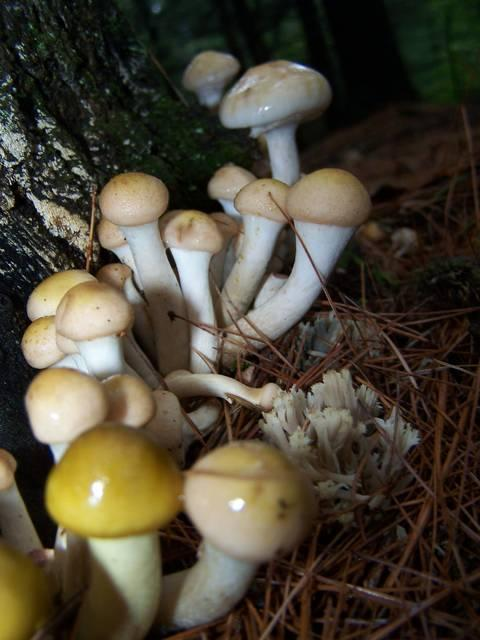Edible Mushroom: (17, 49, 373, 637), (159, 438, 316, 630), (44, 421, 182, 638), (219, 166, 371, 361), (217, 58, 332, 185)
